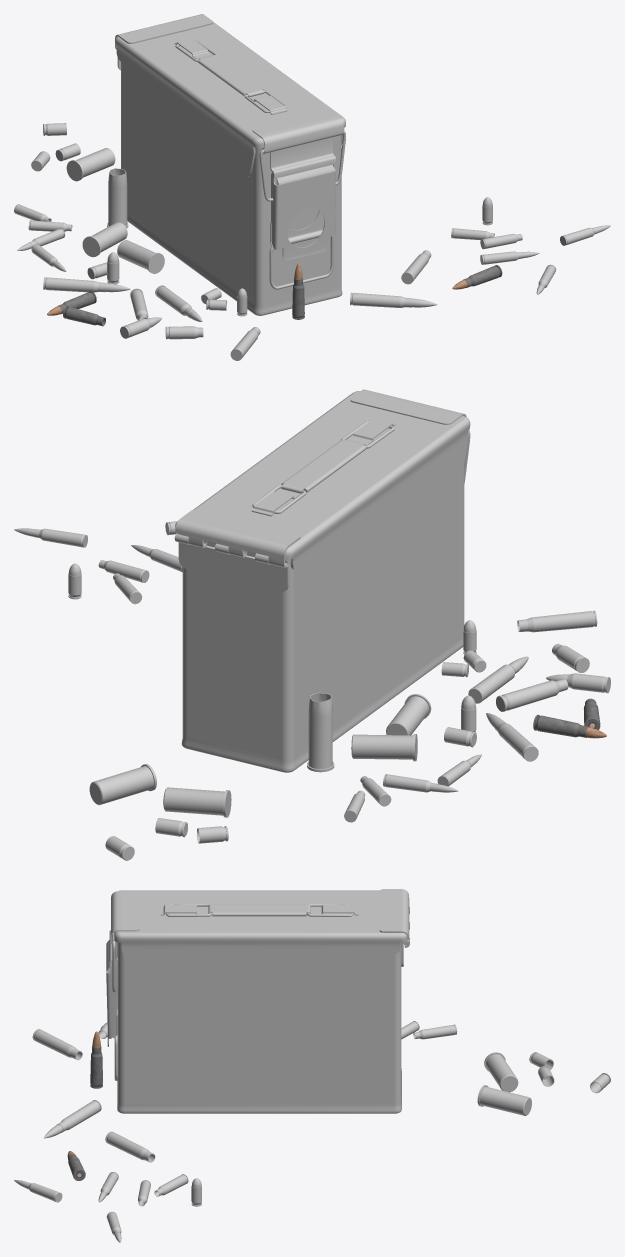
File: ammobox demo.fbx
The picture shows the model from 3 angles, top to bottom: view 1: azimuth 30°, elevation 25°; view 2: azimuth 150°, elevation 25°; view 3: azimuth 270°, elevation 25°; orthographic projection. The views are drawn at different scales.
Visible parts, largest first — view 1: body, top_low, latch, latchWireHolder, lockFace, topHinge, topHandle, Shell_spent, Shell.002, 7_92_57mm, 7_92_57mm.001, Shell.001 (+14 smaller); view 2: body, top_low, topHinge, hinge, Shell_spent, topHandle, Shell.002, latchWireHolder, Shell, Shell.003, topHandleHolder, 7_92_57mm_spent (+9 smaller); view 3: body, top_low, topHinge, topHandle, latchWireHolder, Shell.003, topHandleHolder, Shell.002, latch, 7_92_57mm.001, 7_92_57mm_spent.001, 7_92_57mm_spent (+1 smaller).
Part boxes in pixels (bbox=[...]): body: bbox=[121, 62, 342, 315]; top_low: bbox=[115, 22, 345, 177]; latch: bbox=[271, 164, 335, 260]; latchWireHolder: bbox=[252, 110, 343, 153]; lockFace: bbox=[270, 137, 335, 178]; topHinge: bbox=[115, 14, 213, 49]; topHandle: bbox=[198, 54, 263, 97]; Shell_spent: bbox=[107, 168, 128, 228]; Shell.002: bbox=[66, 148, 115, 181]; 7_92_57mm: bbox=[43, 277, 130, 292]; 7_92_57mm.001: bbox=[350, 292, 437, 307]; Shell.001: bbox=[117, 240, 164, 273]; body: bbox=[181, 466, 464, 772]; top_low: bbox=[175, 391, 470, 570]; topHinge: bbox=[175, 509, 300, 567]; hinge: bbox=[174, 533, 288, 591]; Shell_spent: bbox=[307, 692, 334, 772]; topHandle: bbox=[281, 439, 365, 493]; Shell.002: bbox=[163, 787, 231, 817]; latchWireHolder: bbox=[350, 389, 466, 424]; Shell: bbox=[351, 734, 417, 761]; Shell.003: bbox=[89, 764, 156, 805]; topHandleHolder: bbox=[251, 419, 395, 516]; 7_92_57mm_spent: bbox=[517, 610, 597, 632]; body: bbox=[117, 942, 401, 1113]; top_low: bbox=[114, 890, 407, 979]; topHinge: bbox=[379, 889, 409, 939]; topHandle: bbox=[208, 904, 310, 916]; latchWireHolder: bbox=[111, 891, 139, 944]; Shell.003: bbox=[477, 1085, 531, 1115]; topHandleHolder: bbox=[160, 904, 358, 915]; Shell.002: bbox=[484, 1052, 518, 1092]; latch: bbox=[106, 940, 116, 1046]; 7_92_57mm.001: bbox=[44, 1100, 101, 1138]; 7_92_57mm_spent.001: bbox=[105, 1131, 155, 1162]; 7_92_57mm_spent: bbox=[32, 1029, 82, 1059].
Size of what is drawn, in the model's own units: 55.86 by 18.89 by 55.27.
